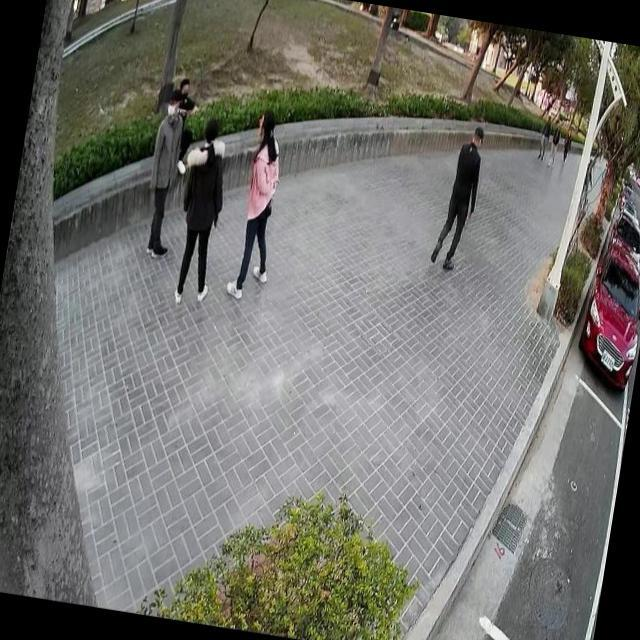person: (160, 112, 239, 312), (220, 101, 296, 305), (134, 82, 196, 262), (427, 114, 489, 276), (164, 72, 206, 178), (577, 153, 599, 210), (544, 118, 563, 168), (536, 112, 554, 162), (558, 126, 574, 163), (596, 158, 608, 192)
